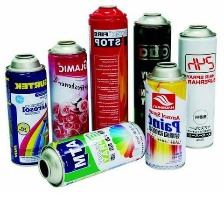aerosol_cans: (35, 118, 148, 193), (86, 4, 131, 147), (4, 45, 53, 170), (131, 8, 174, 147), (141, 58, 191, 173), (176, 21, 218, 150), (45, 34, 90, 153)
